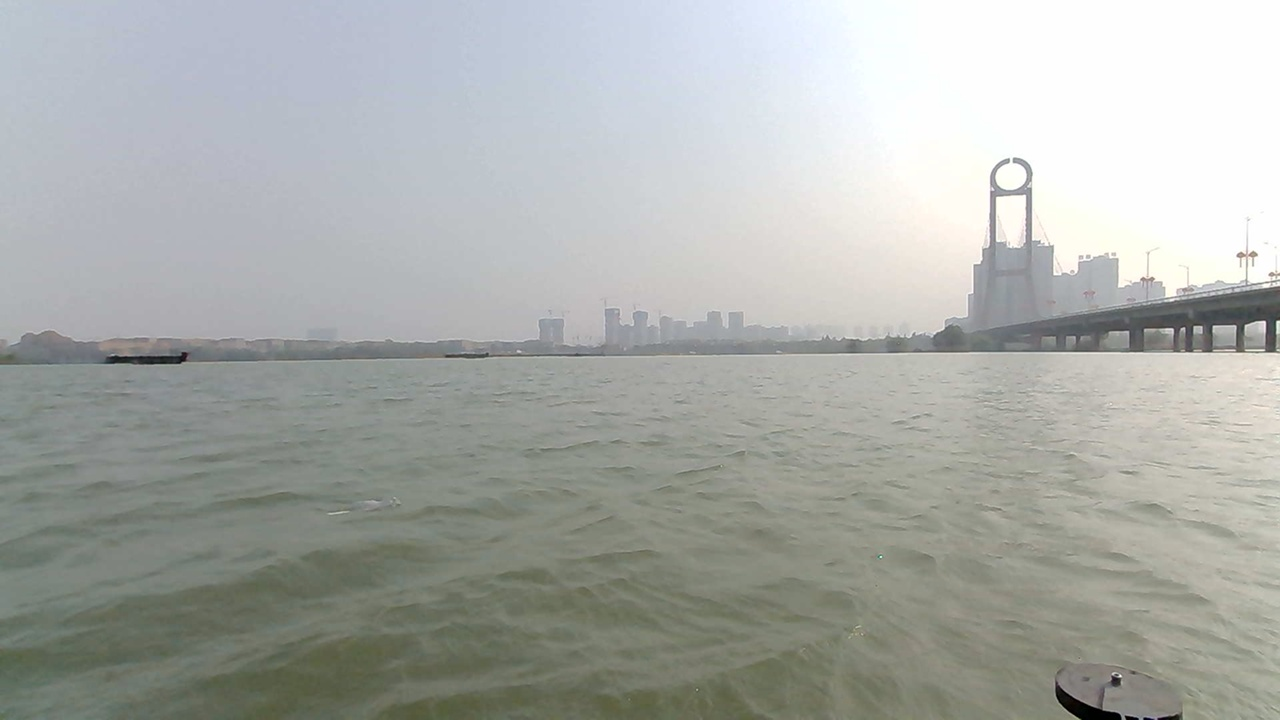bottle: (272, 482, 415, 543)
